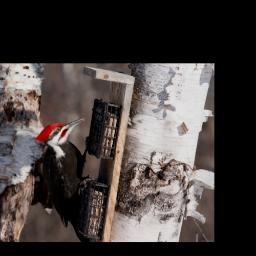Woodpecker: (32, 117, 96, 228)
